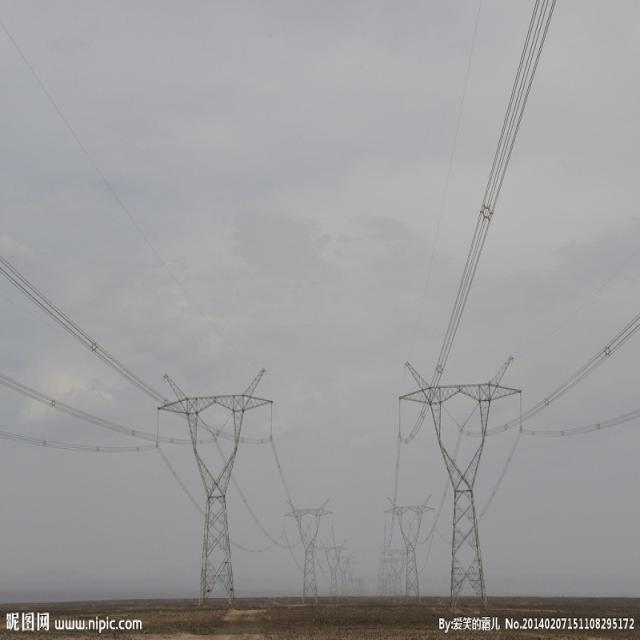non-critical vegetation: (393, 347, 533, 599), (154, 364, 270, 598), (376, 487, 434, 597), (284, 491, 328, 599)
